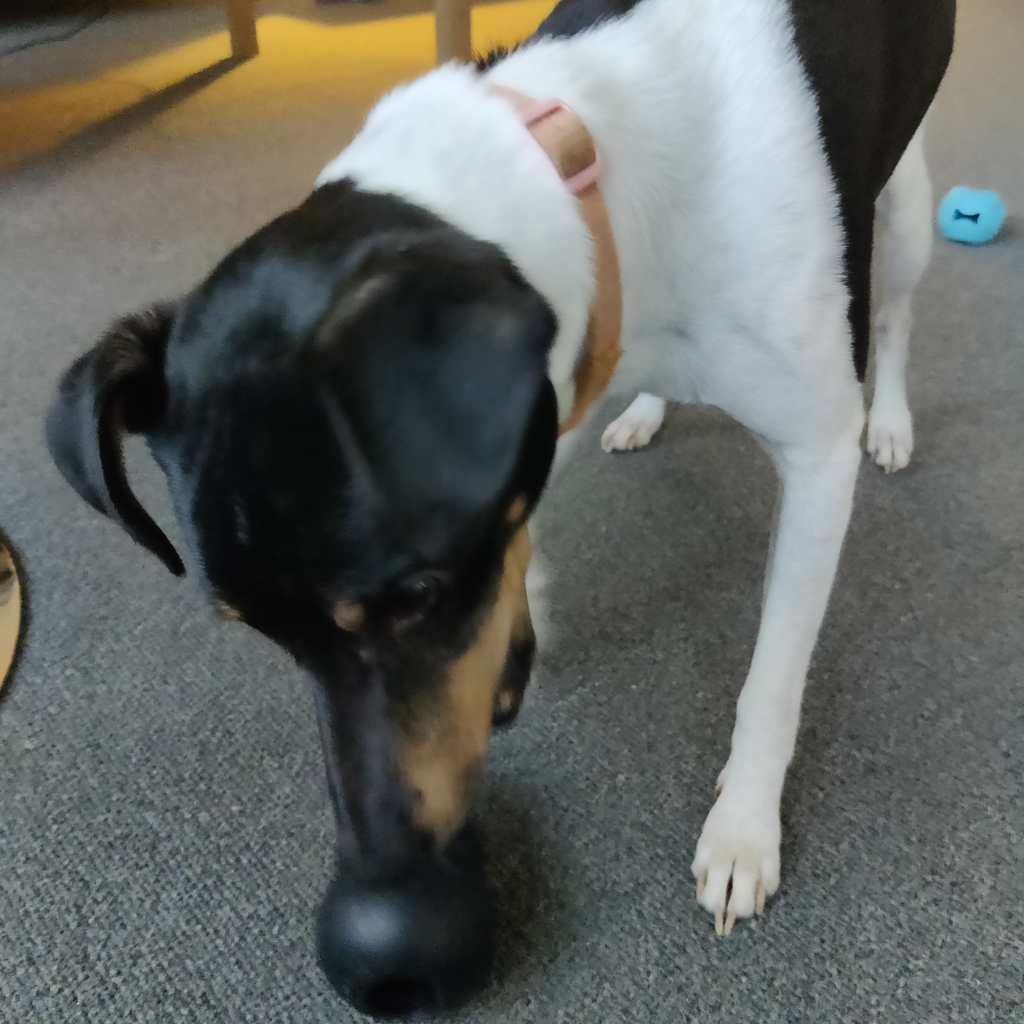Dog: (37, 0, 978, 949)
